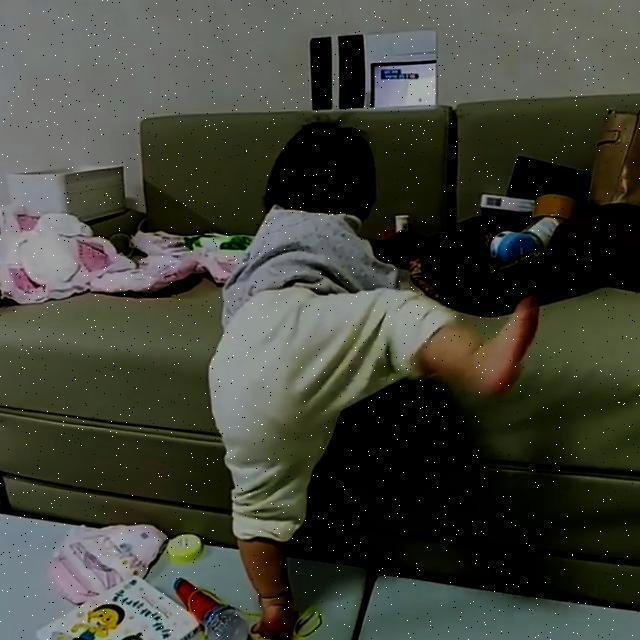child: (216, 121, 539, 640)
